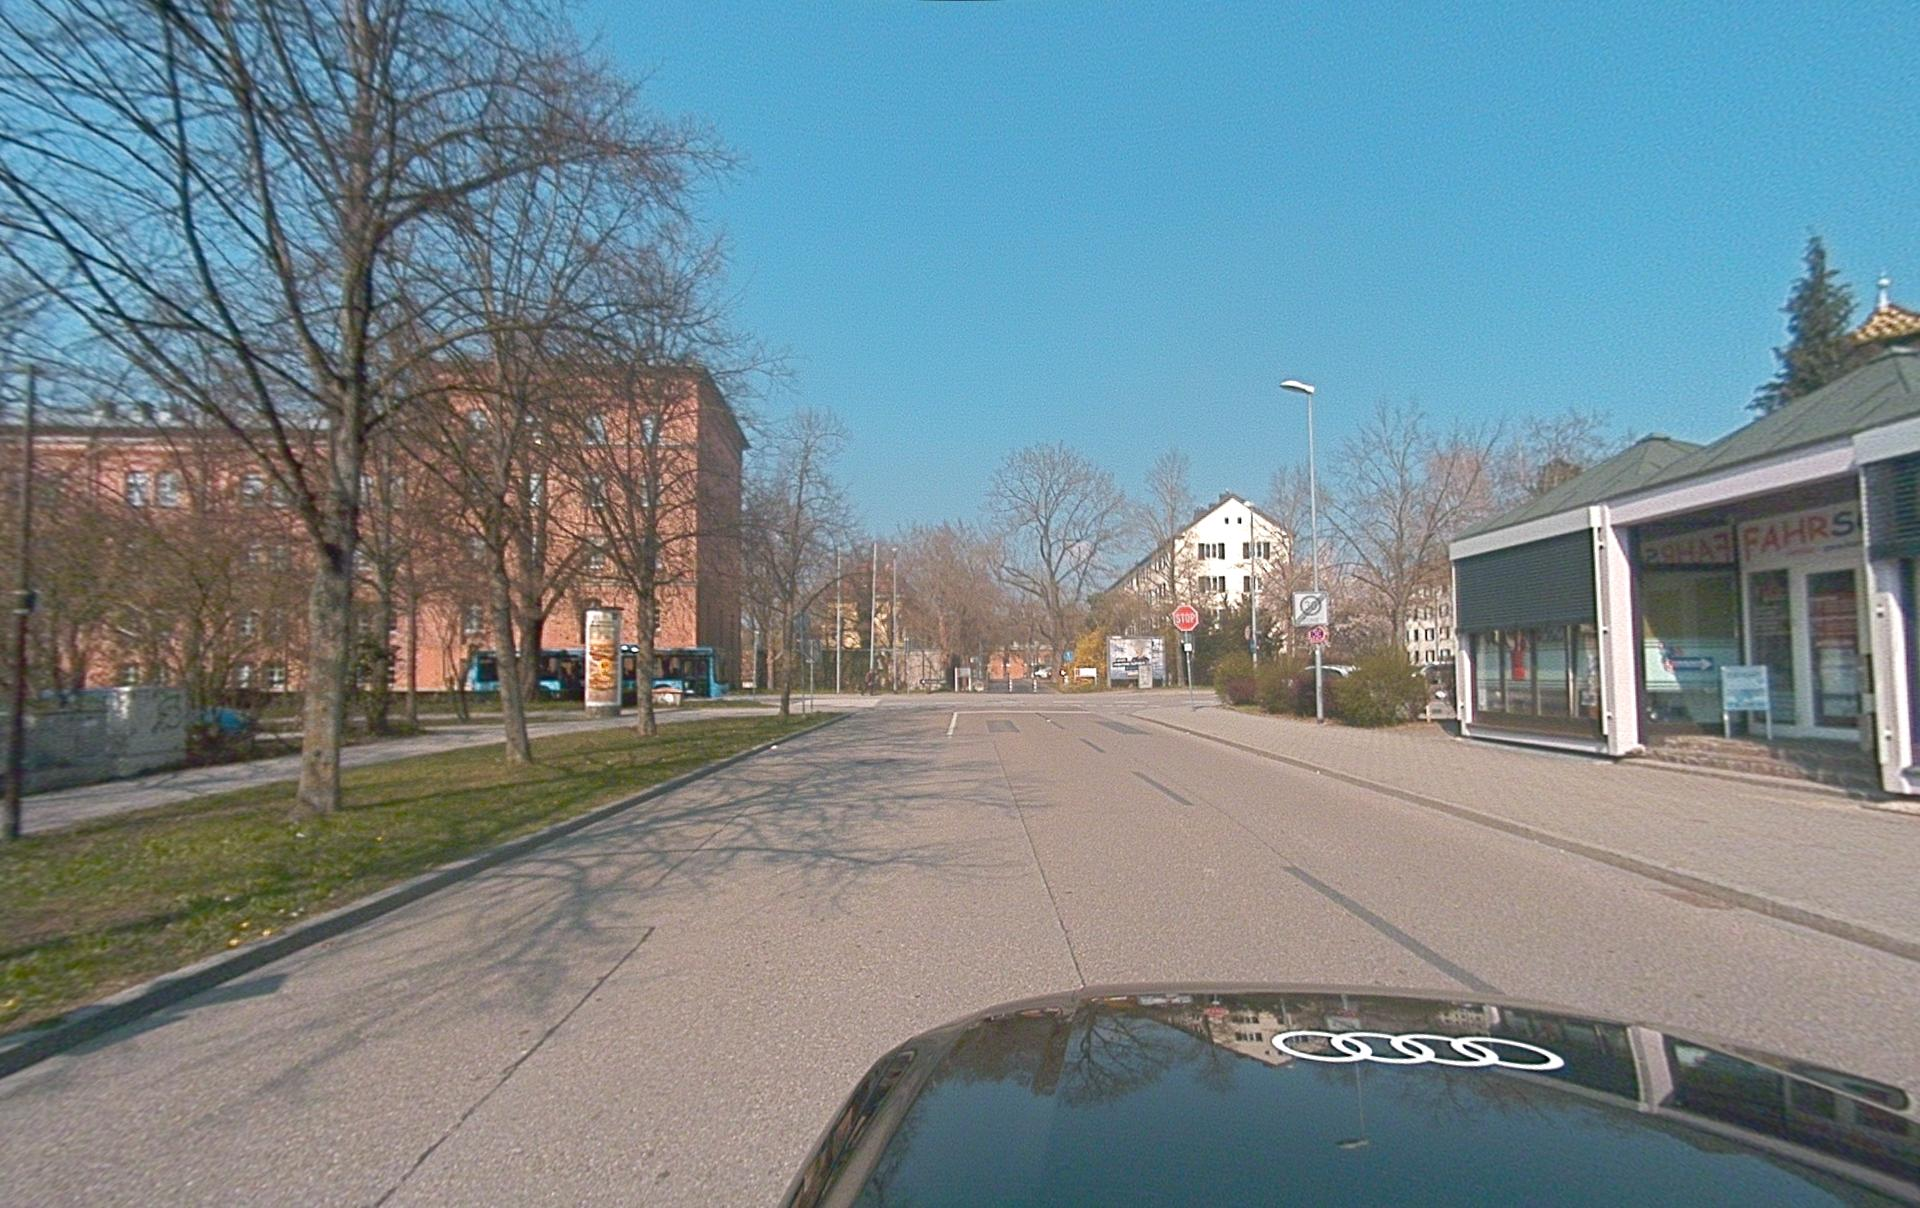car: (778, 981, 1920, 1207)
traffic sign: (1291, 590, 1329, 628), (1170, 603, 1201, 632)
